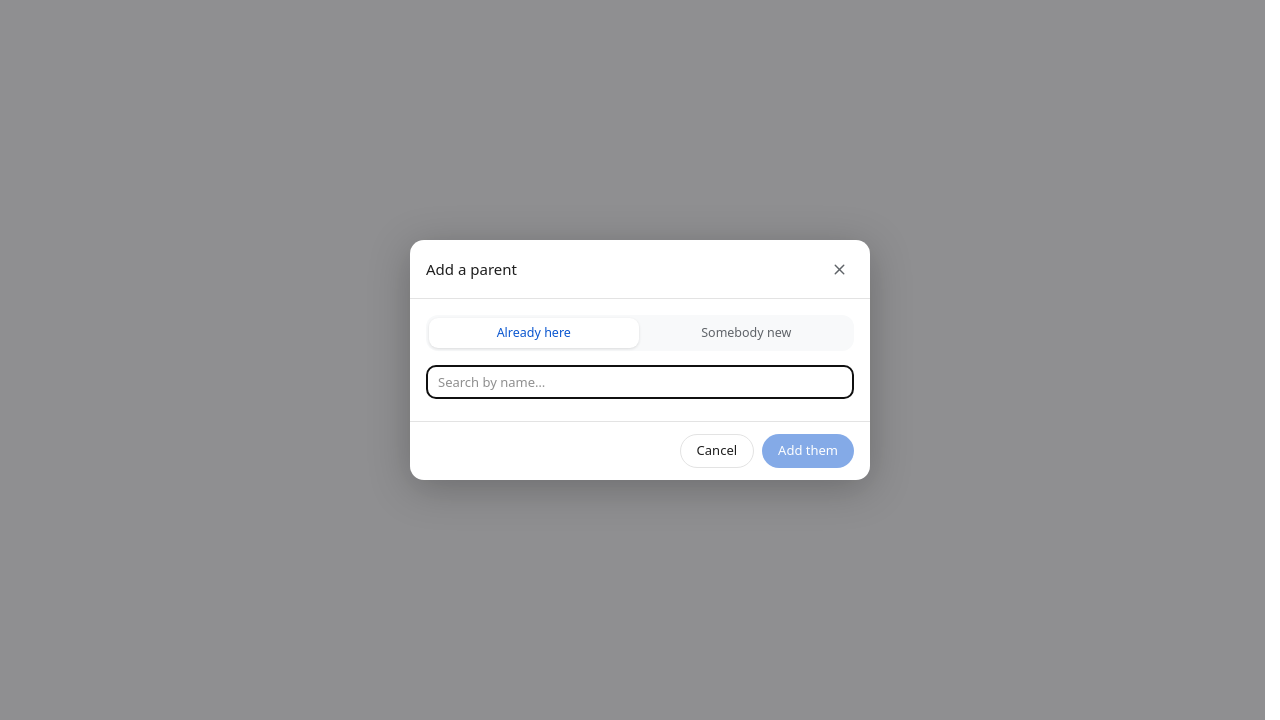
AddRelativeModal › create-new mode › switches to the Create form when "Create new" is clicked
The width and height of the screenshot is (1280, 720).
Click the button "Somebody new" at (746, 333), box [642, 318, 851, 348]
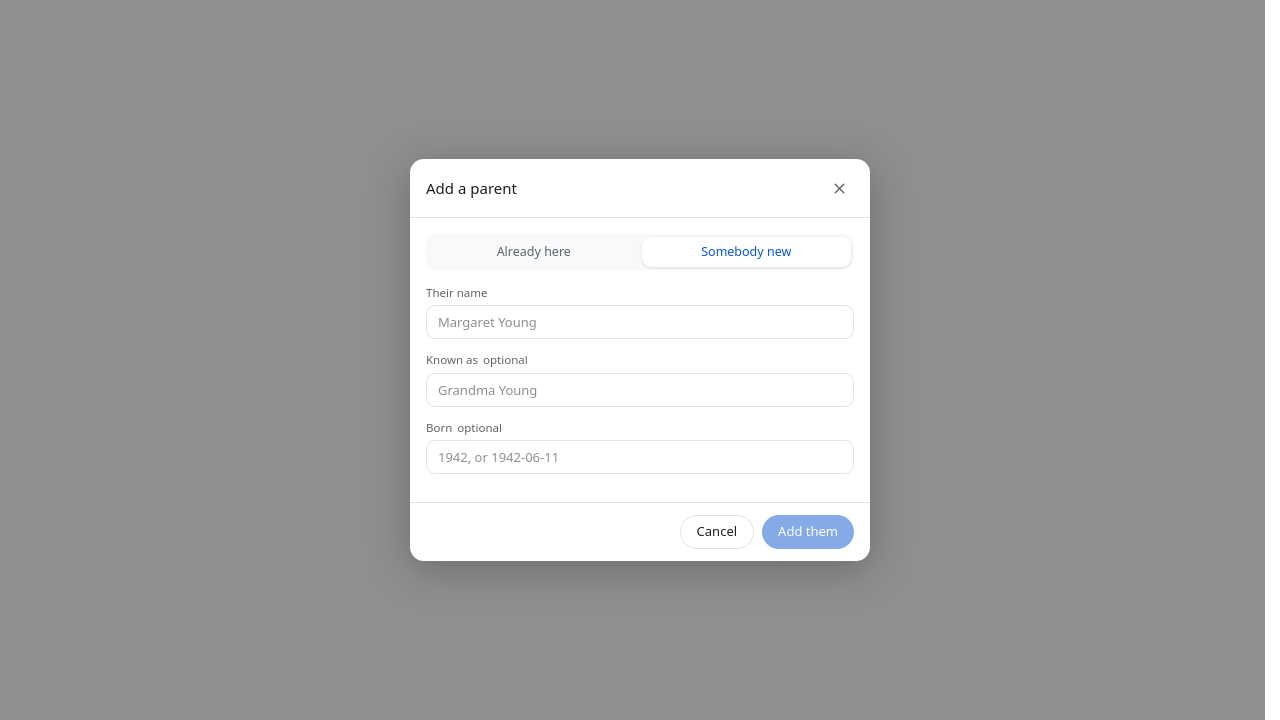
Check: the field with placeholder "Margaret Young" is shown, box [426, 305, 854, 339]
